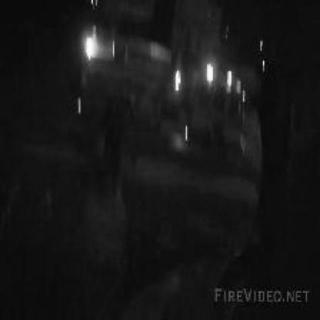other: (196, 57, 246, 103), (79, 25, 103, 67), (165, 68, 183, 92)
